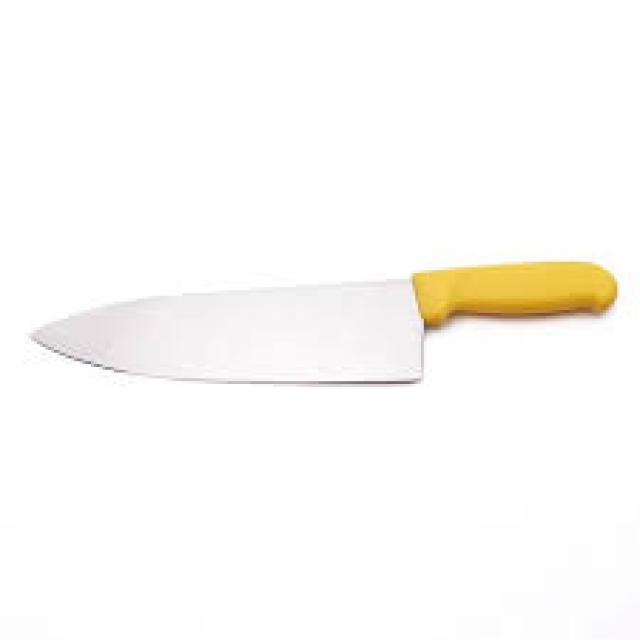Knife: (26, 256, 617, 384)
